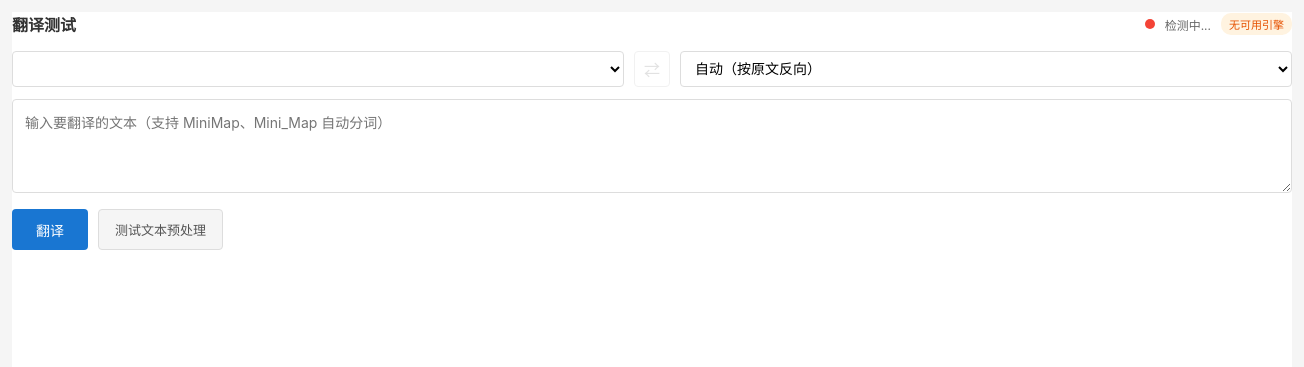
Test: TranslatePanel（翻译测试页） › 功能: 输入文本翻译 → 展示结果与所用引擎
Type "hello world" into the text box with placeholder "输入要翻译的文本（支持 MiniMap、Mini_Map 自动分词）" at coordinates (652, 146), box top-left (12, 99), bottom-right (1292, 193)
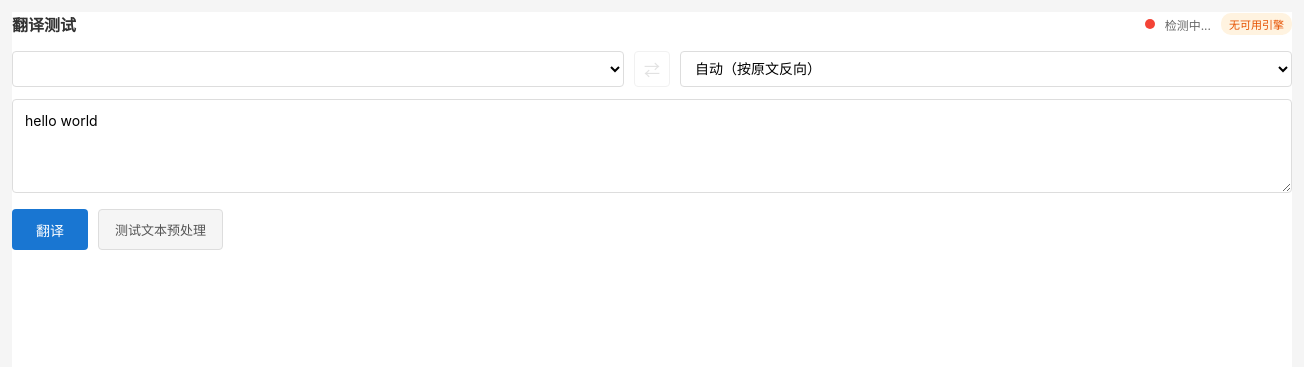
Click the button "翻译" at coordinates (50, 230), box top-left (12, 209), bottom-right (88, 250)
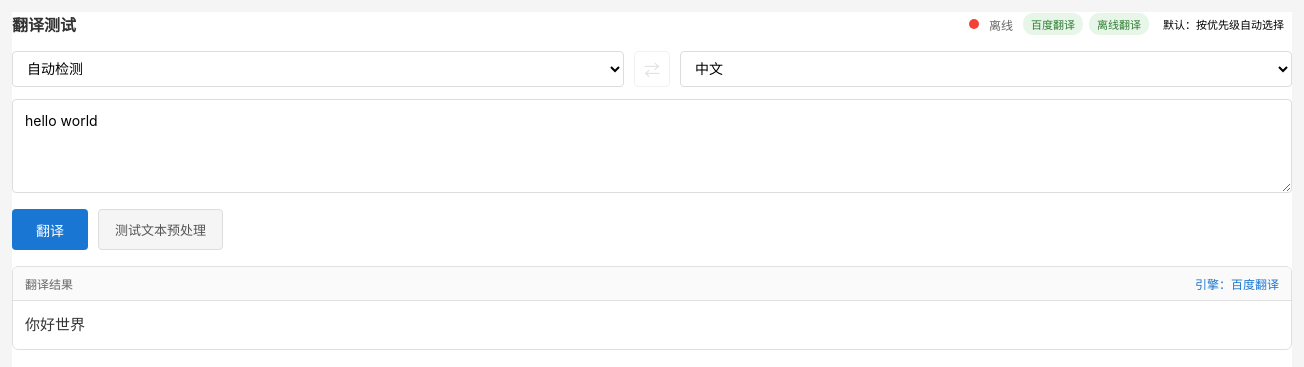
Result: the text "你好世界" is shown at top-left (25, 315), bottom-right (85, 334)
Result: the text "引擎：百度翻译" is shown at top-left (1195, 275), bottom-right (1279, 292)
